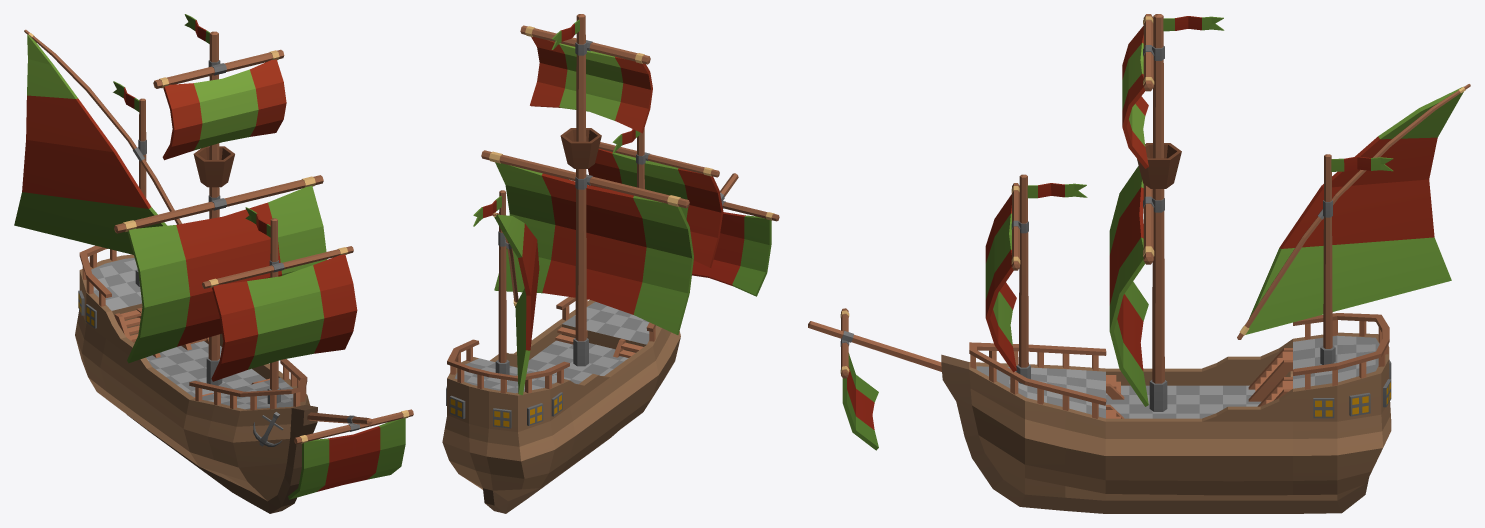
Rendered from ship-medium-6.glb.
3 renders of one model, left to right at view 1: azimuth 30°, elevation 25°; view 2: azimuth 150°, elevation 25°; view 3: azimuth 270°, elevation 25°, orthographic. The views are drawn at different scales.
Parts seen in each view (by area): view 1: ship medium 6; view 2: ship medium 6; view 3: ship medium 6.
Boxes of the visible parts, x1,y1,x2,y2 form: ship medium 6: (14,14,413,513); ship medium 6: (442,14,779,513); ship medium 6: (808,14,1470,513).
Size of the model in its own units: 13.58 by 27.64 by 33.44.
1 material, 1 textured.
